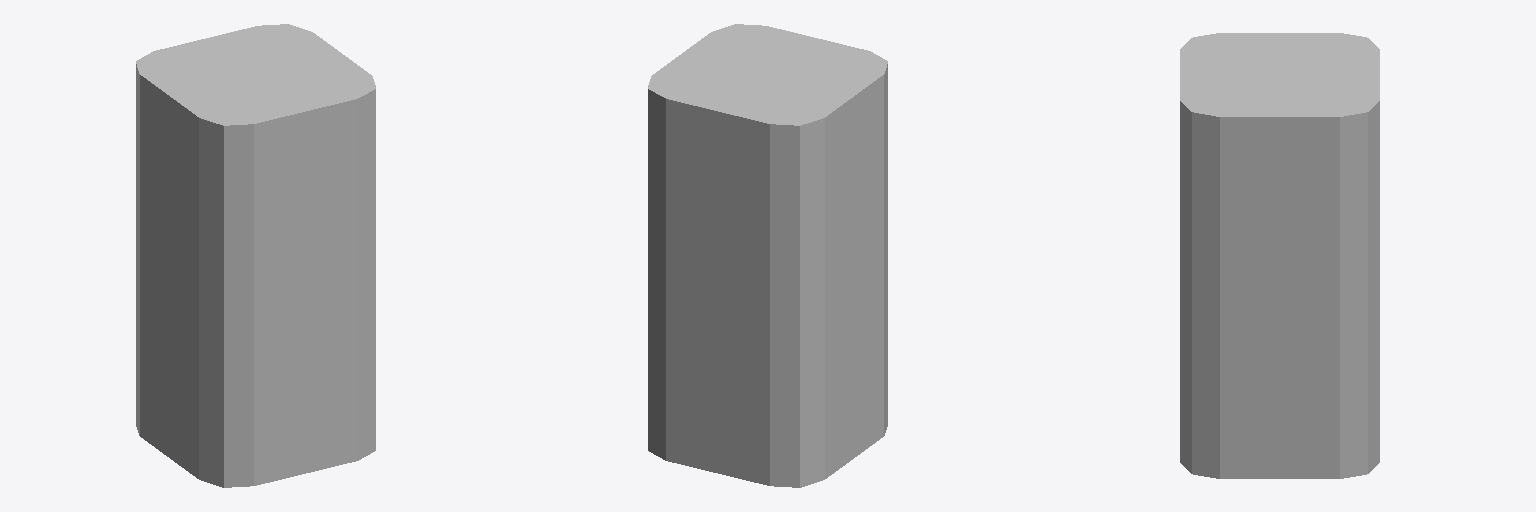
Rendered from cliff.obj.
The picture shows the model from 3 angles: view 1: azimuth 30°, elevation 25°; view 2: azimuth 150°, elevation 25°; view 3: azimuth 270°, elevation 25°; orthographic projection.
Parts seen in each view (by area): view 1: Plane.016_Plane.056; view 2: Plane.016_Plane.056; view 3: Plane.016_Plane.056.
Part boxes in pixels (bbox=[...]): Plane.016_Plane.056: bbox=[136, 24, 375, 487]; Plane.016_Plane.056: bbox=[648, 24, 887, 487]; Plane.016_Plane.056: bbox=[1180, 33, 1379, 478].
Bounding box in the file's own units: 1 × 2 × 1.